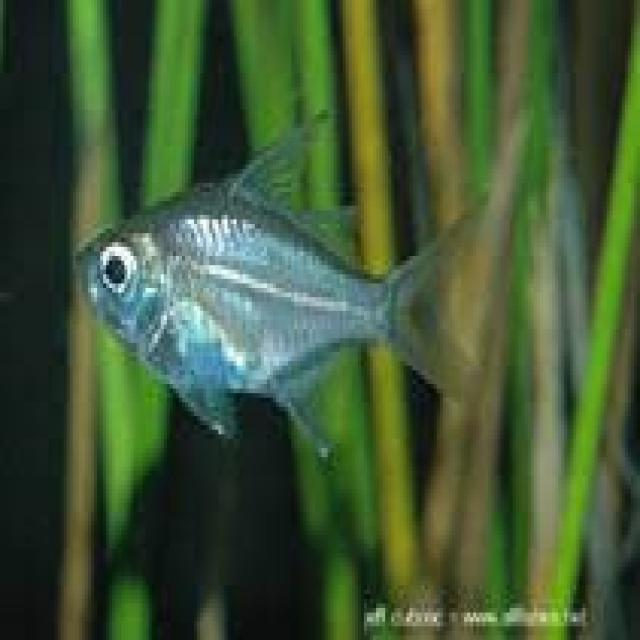Glass-Perchlet: (18, 49, 568, 493)
